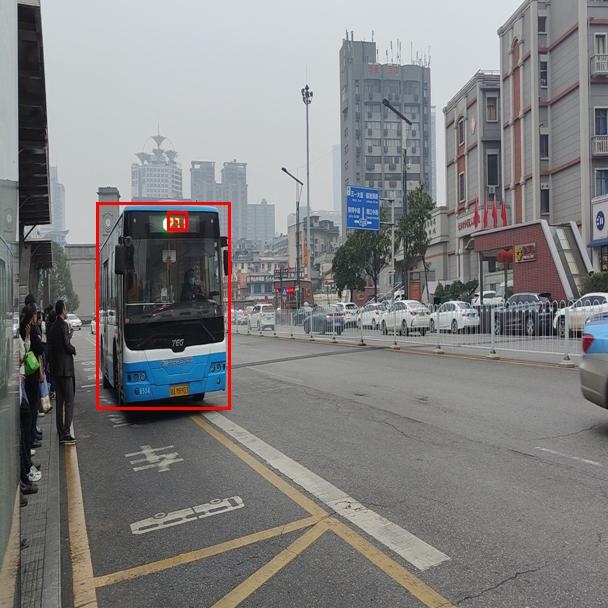bus: (96, 202, 230, 409)
screen: (167, 211, 187, 230)
